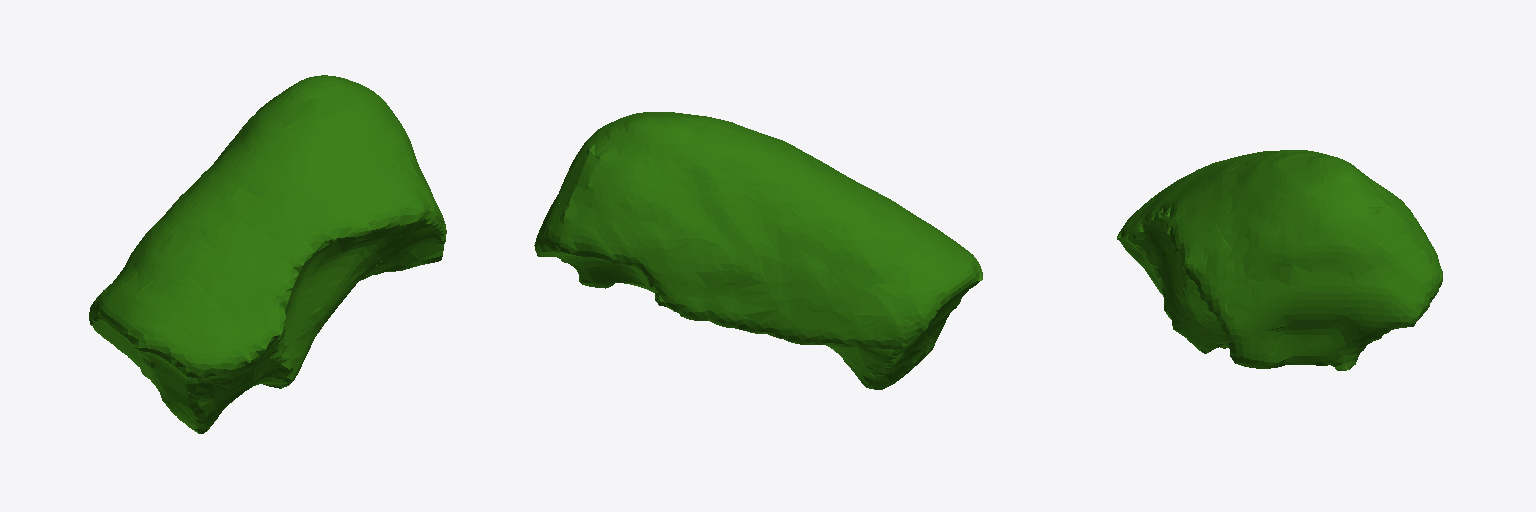
The model's file is Model_10043_LH__Area_10_of_cortex_(A10).obj.
3 renders of one model, left to right at view 1: azimuth 30°, elevation 25°; view 2: azimuth 150°, elevation 25°; view 3: azimuth 270°, elevation 25°, orthographic.
Size of the model in its own units: 4.66 by 3.52 by 3.9.